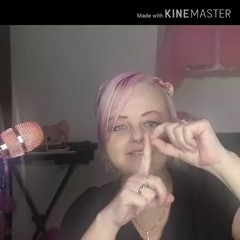P: (110, 116, 221, 227)
